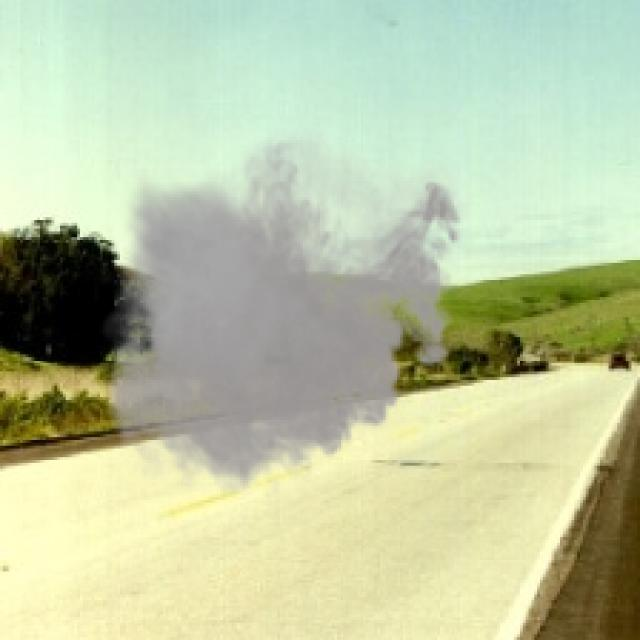smoke: (94, 117, 474, 509)
